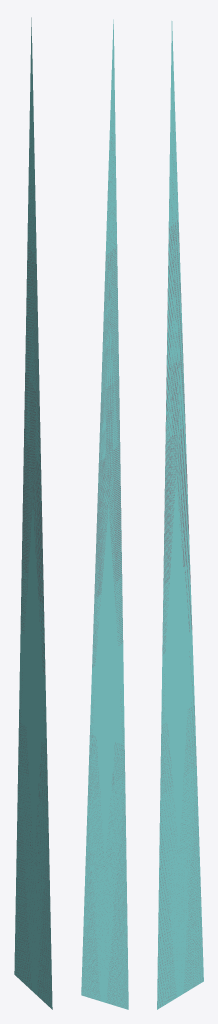
The model's file is 西庸城堡726.dae.
3 renders of one model, left to right at view 1: azimuth 90°, elevation 25°; view 2: azimuth 150°, elevation 25°; view 3: azimuth 330°, elevation 25°, orthographic.
Visible parts, largest first — view 1: SketchUp; view 2: SketchUp; view 3: SketchUp.
Boxes of the visible parts, left/top/right/bottom form: SketchUp: left=14, top=17, right=52, bottom=1009; SketchUp: left=81, top=19, right=128, bottom=1009; SketchUp: left=157, top=21, right=203, bottom=1009.
Bounding box in the file's own units: 2.38 × 2.8 × 80.49.
